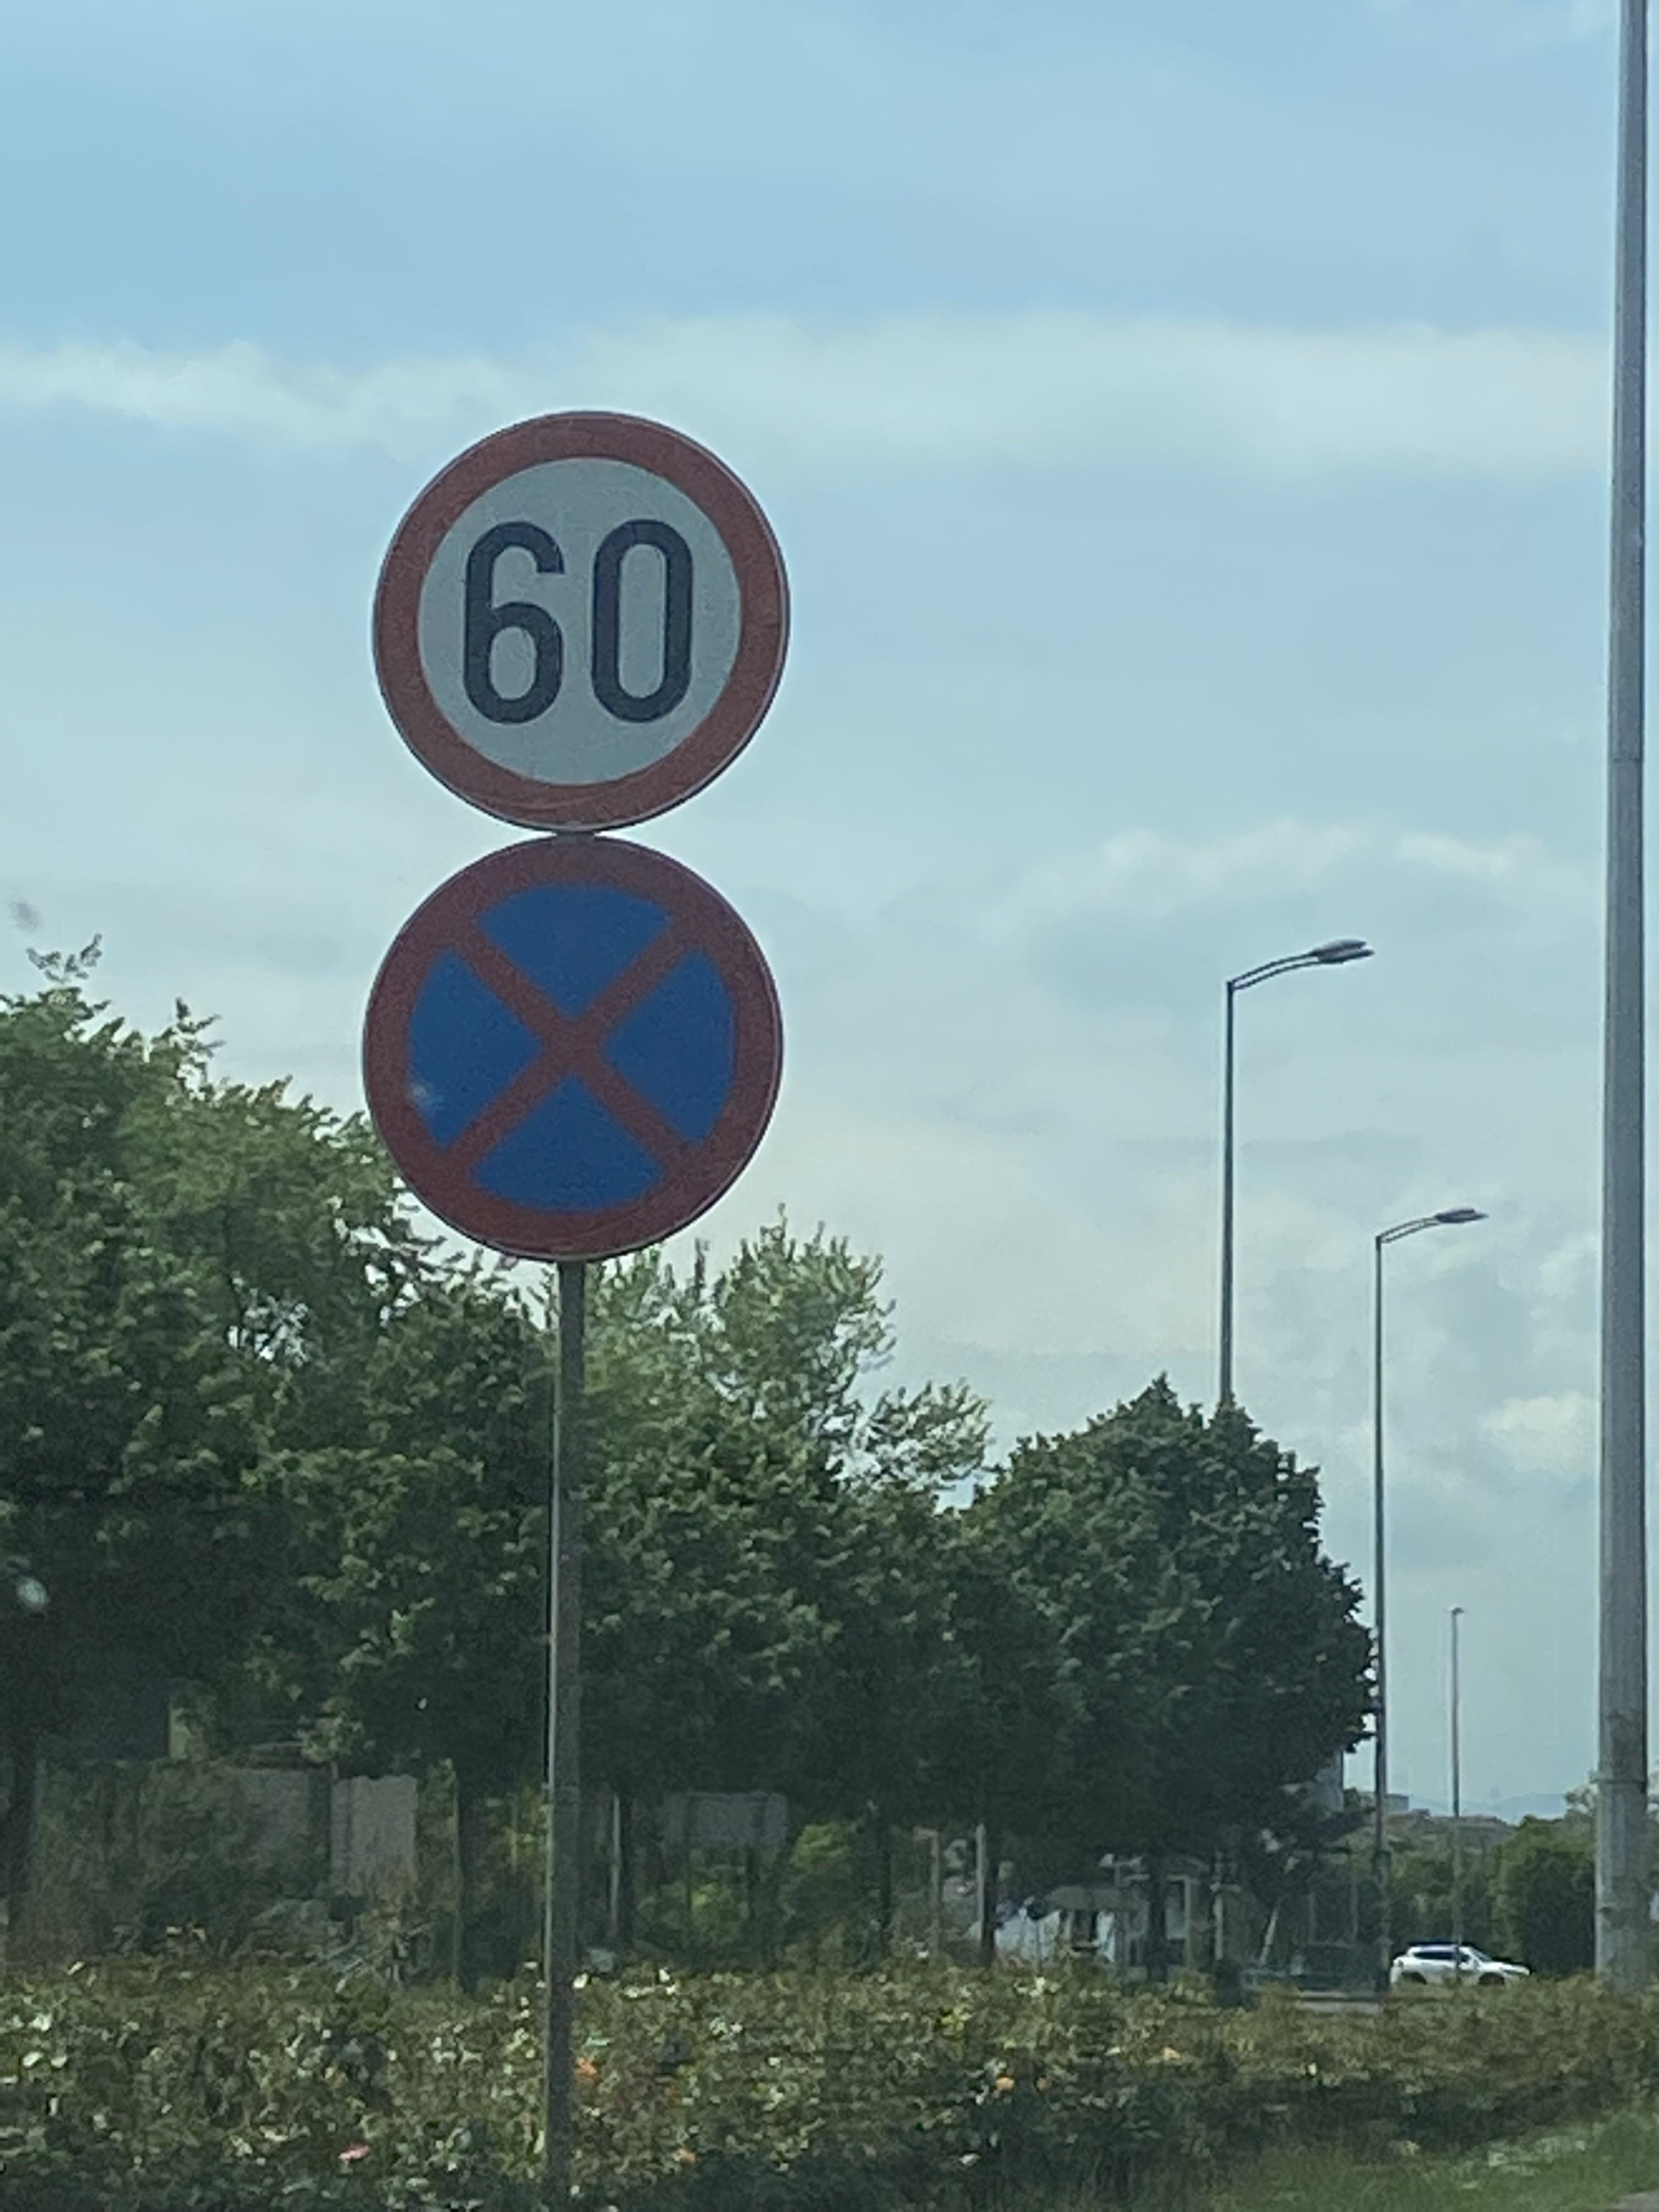Ograničenje brzine 60: (373, 411, 793, 833)
